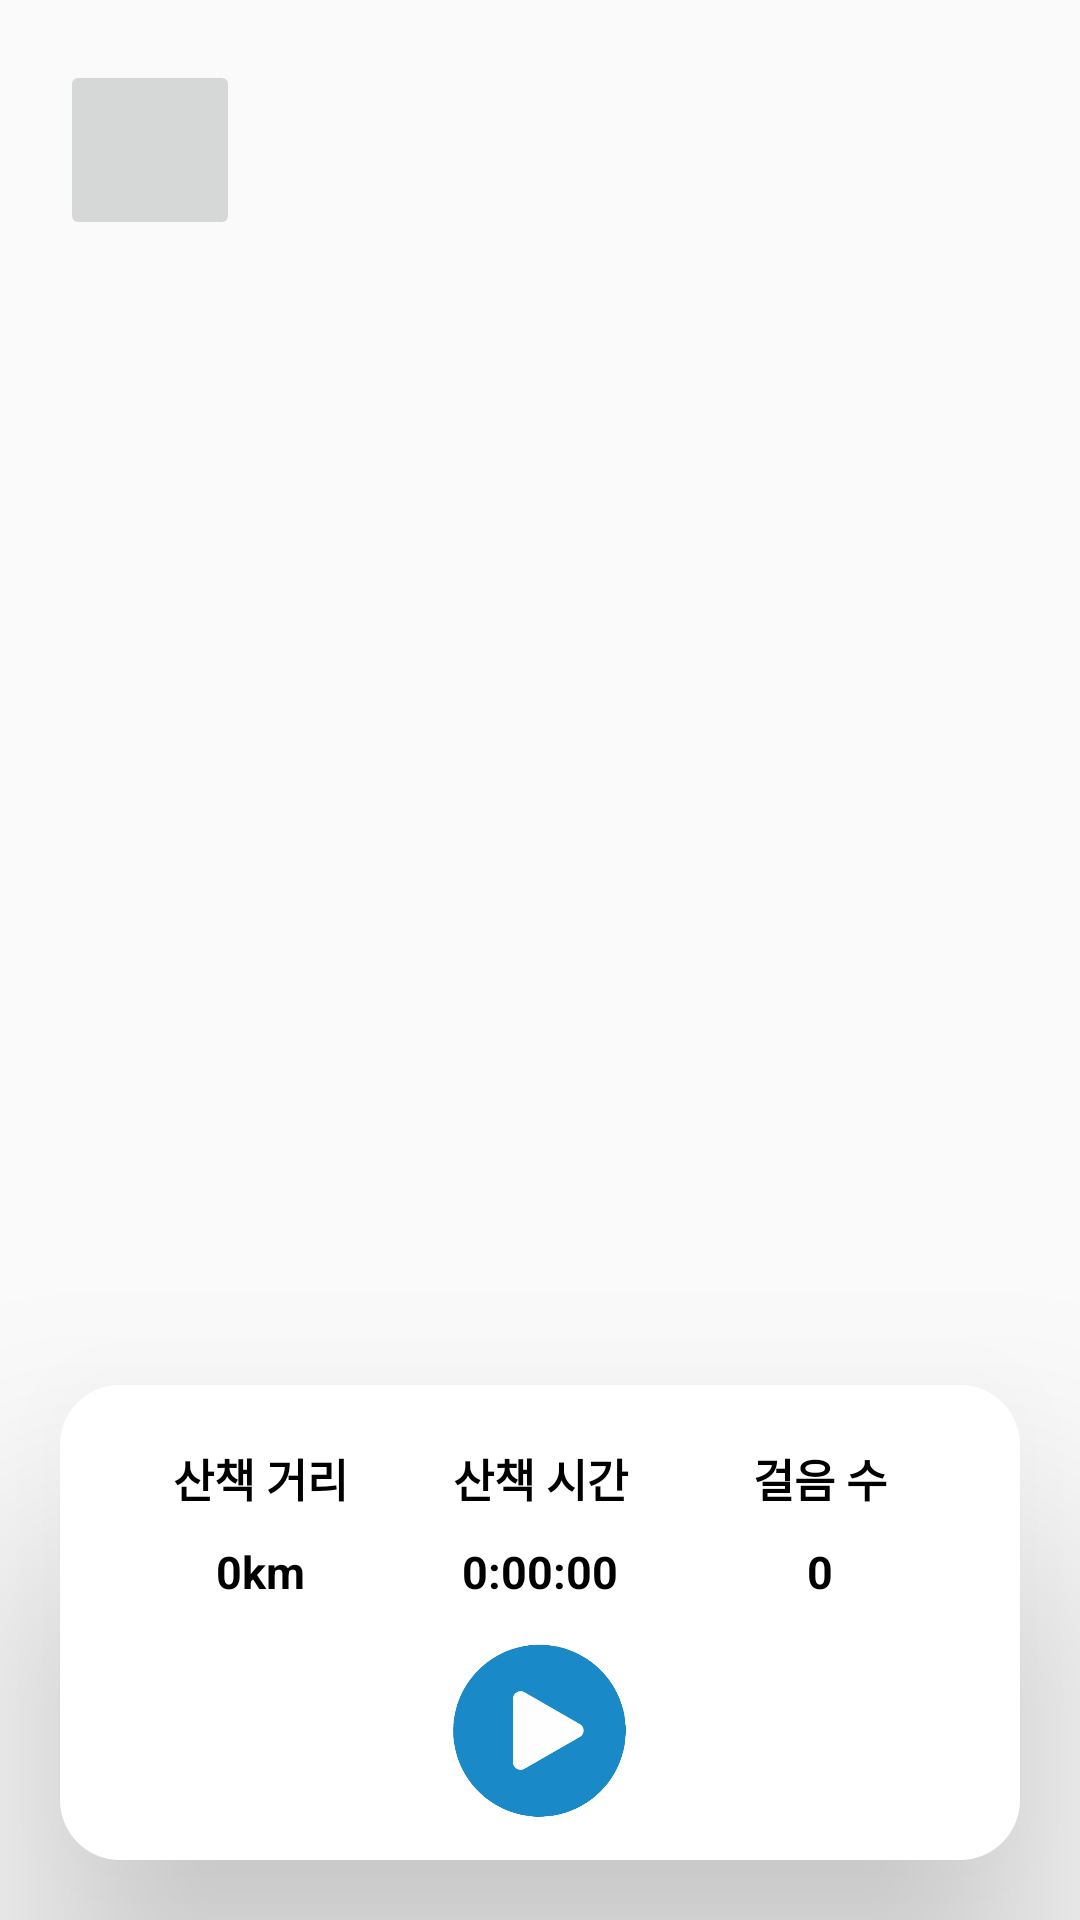

Screen size 1080*1920. Icon name, then its box in pixels as (x1, y1, x2, y2):
play: (453, 1644, 626, 1817)
